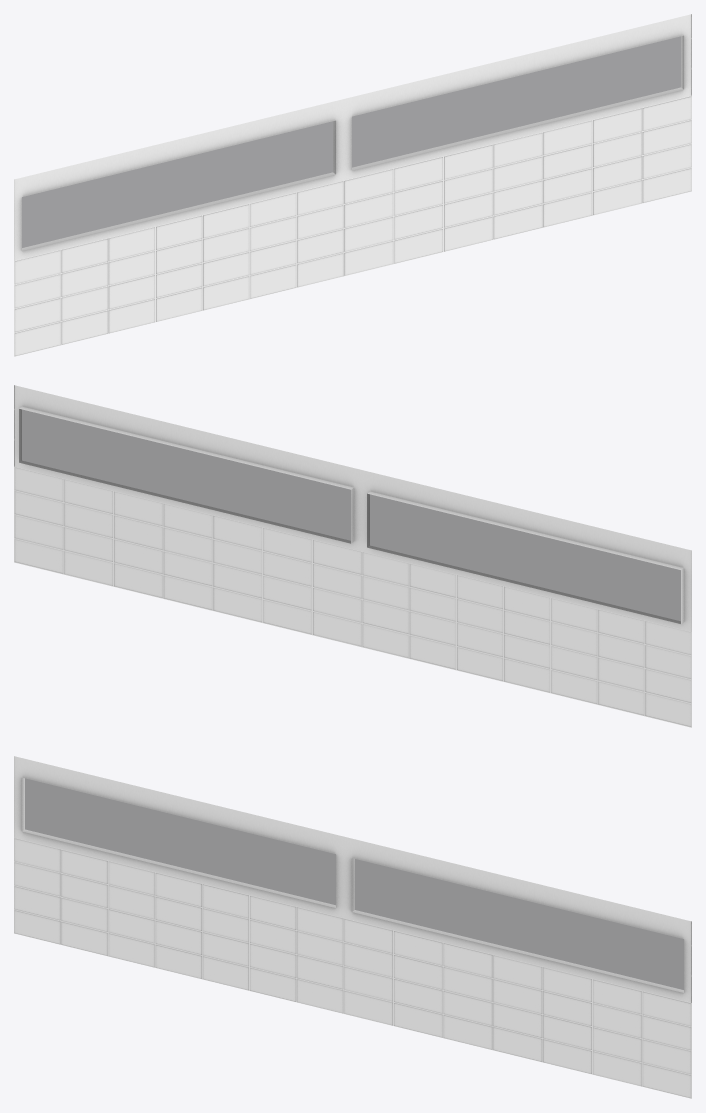
Rendered from Hall with lighting5 copy.glb.
3 renders of one model, top to bottom at view 1: azimuth 30°, elevation 25°; view 2: azimuth 150°, elevation 25°; view 3: azimuth 330°, elevation 25°, orthographic.
Parts seen in each view (by area): view 1: Cube.028, Cube.027, Cube.024; view 2: Cube.028, Cube.027, Cube.024; view 3: Cube.028, Cube.027, Cube.024.
Boxes of the visible parts, x1=… form: Cube.028: x1=14, y1=95, x2=691, y2=356; Cube.027: x1=22, y1=36, x2=680, y2=247; Cube.024: x1=14, y1=14, x2=691, y2=260; Cube.028: x1=14, y1=466, x2=691, y2=727; Cube.027: x1=19, y1=409, x2=680, y2=623; Cube.024: x1=14, y1=385, x2=691, y2=631; Cube.028: x1=14, y1=837, x2=691, y2=1098; Cube.027: x1=25, y1=778, x2=683, y2=989; Cube.024: x1=14, y1=756, x2=691, y2=1002.
Bounding box in the file's own units: 73.41 × 18.35 × 0.5973.
Materials: 3 (2 with a texture image).
